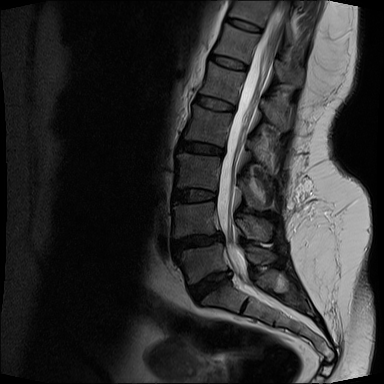Degenerative Disc Disease (DDD): (171, 133, 232, 158), (162, 184, 220, 209)
Lumbar Disc Bulge (LDB): (180, 259, 240, 308), (163, 221, 232, 256)
Normal IVD: (199, 48, 253, 75), (189, 89, 240, 116), (222, 12, 267, 38)
Spinal Stenosis (SS): (217, 256, 245, 294), (203, 219, 233, 250)
